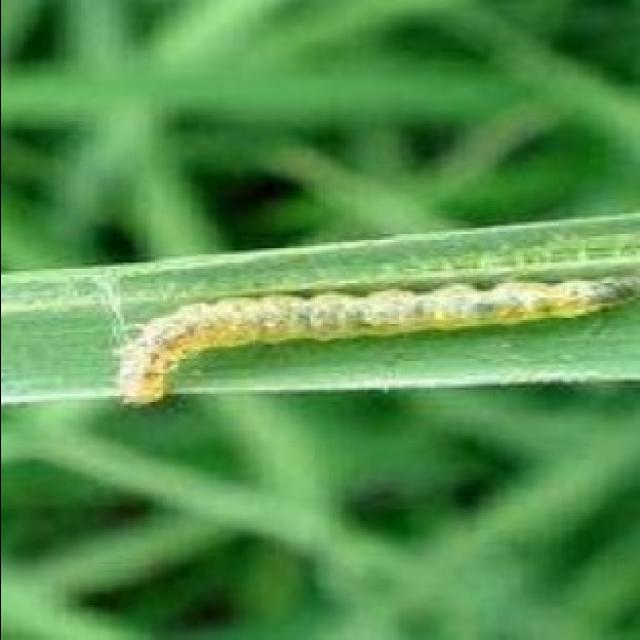rice leaf roller: (117, 281, 636, 402)
